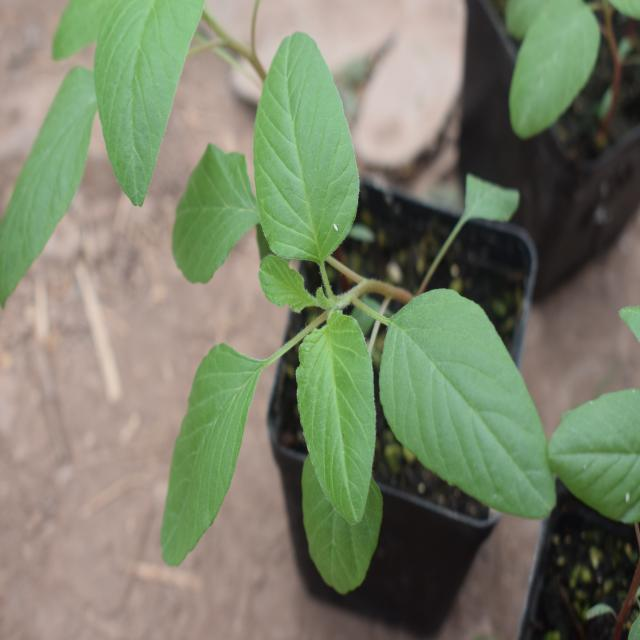pigweed: (171, 57, 555, 559)
